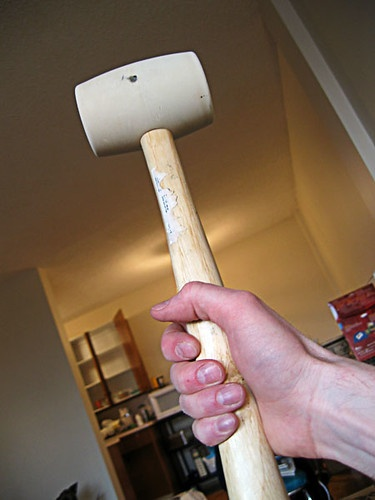hammer: (69, 51, 283, 500)
